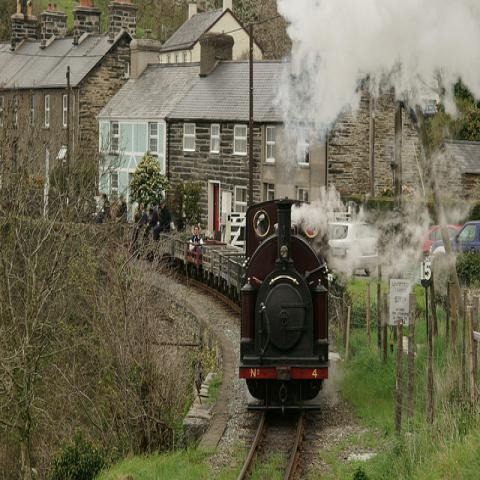car: (328, 221, 379, 285), (416, 225, 463, 266), (429, 221, 479, 254)
